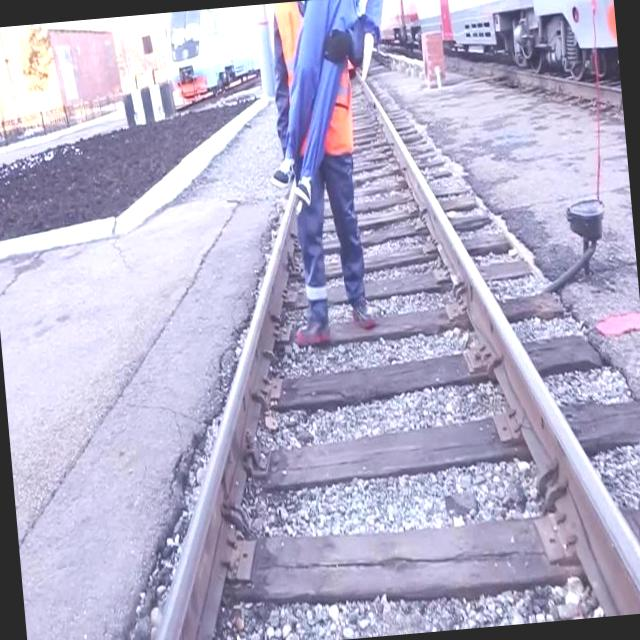vest: (271, 0, 356, 161)
